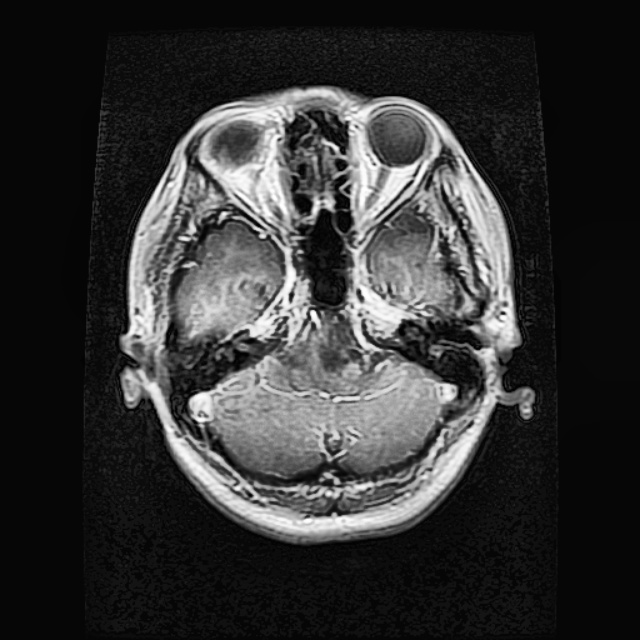Glioma: (278, 310, 394, 380)
